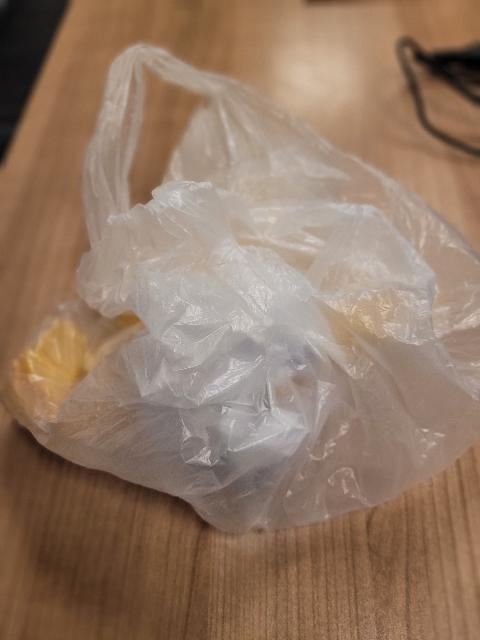Plastik: (11, 40, 480, 532)
